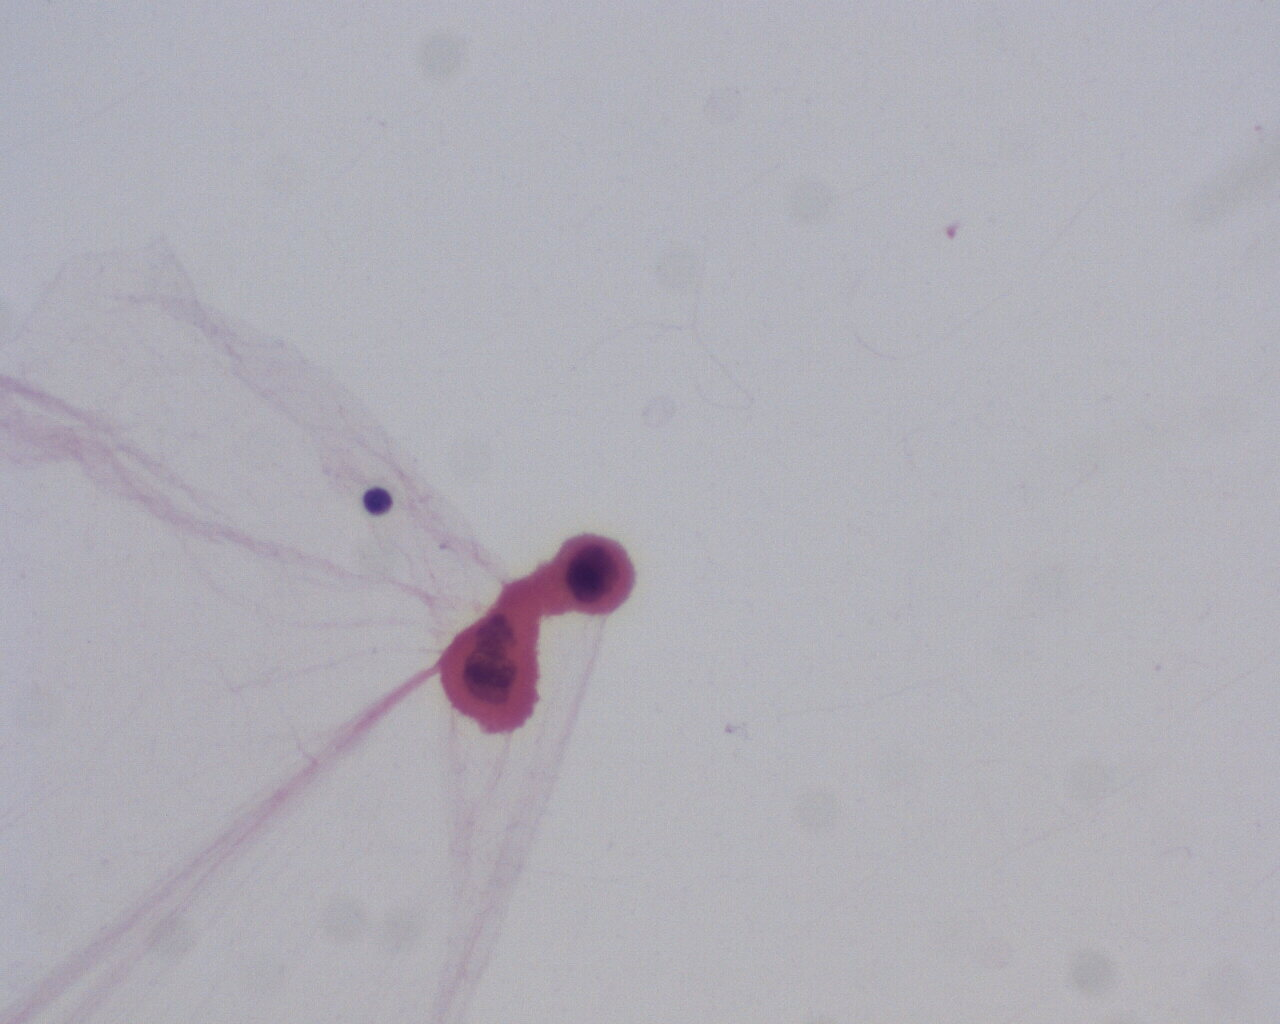ab: (442, 598, 546, 739), (554, 531, 637, 619)
lymph: (359, 486, 398, 517)
